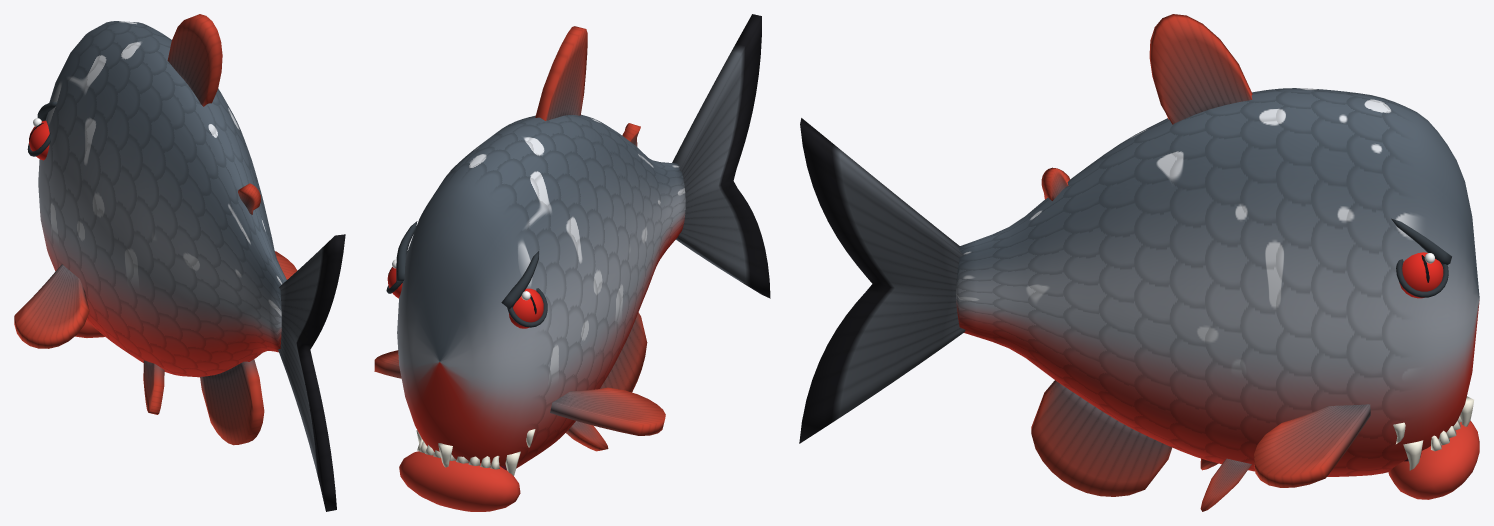
Rendered from Piranha.fbx.
The picture shows the model from 3 angles, left to right: view 1: azimuth 30°, elevation 25°; view 2: azimuth 150°, elevation 25°; view 3: azimuth 270°, elevation 25°; orthographic projection. The views are drawn at different scales.
Parts seen in each view (by area): view 1: Piranha; view 2: Piranha; view 3: Piranha.
Part boxes in pixels (x1,y1,x2,y2): Piranha: [14, 14, 345, 511]; Piranha: [374, 14, 770, 511]; Piranha: [799, 14, 1479, 511].
Size of the model in its own units: 122 by 172 by 222.
Materials: 1 (1 with a texture image).
